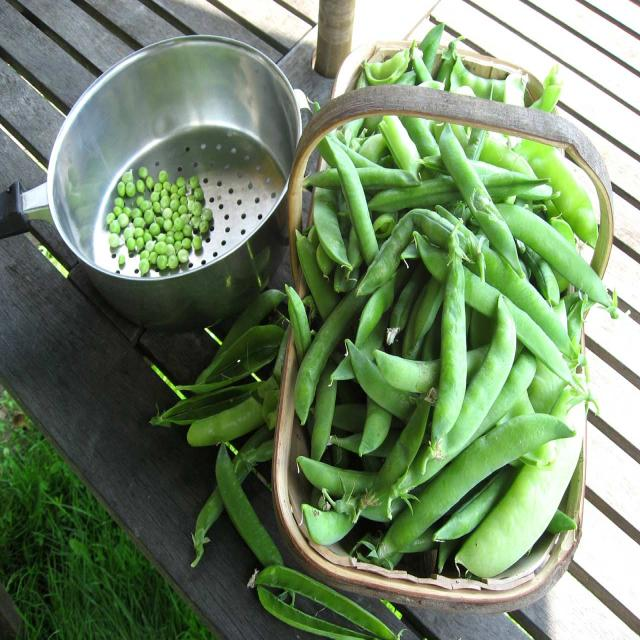Peas: (116, 175, 206, 260)
